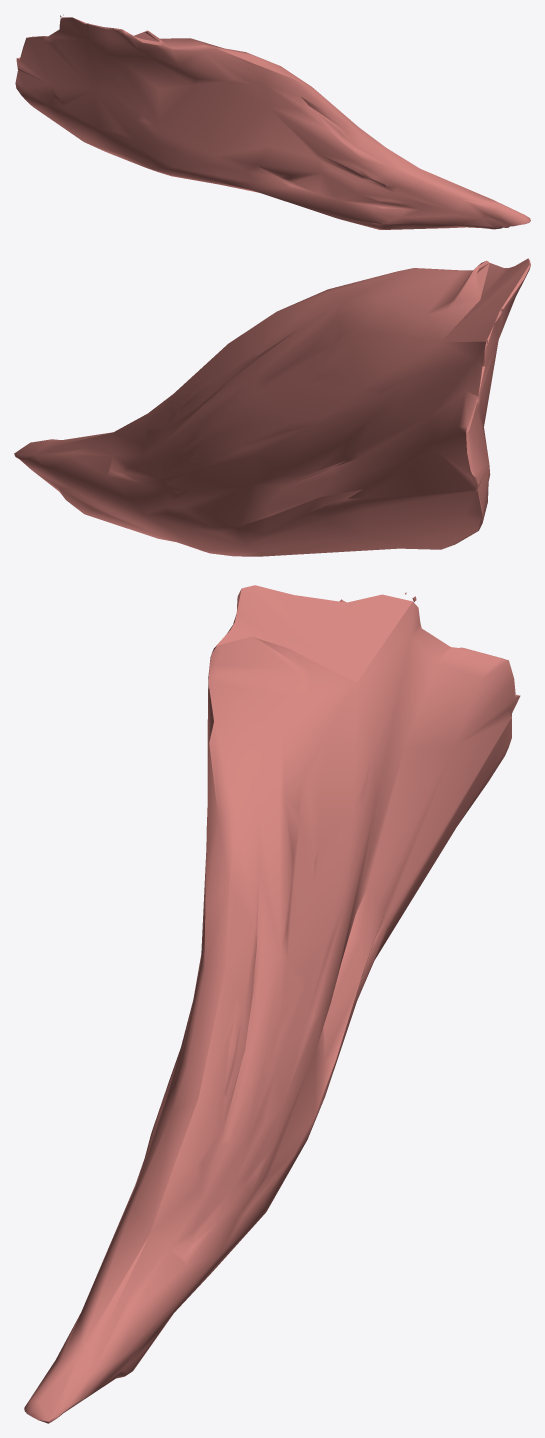
The model's file is fma22341_fj1428m.glb.
The picture shows the model from 3 angles, top to bottom: view 1: azimuth 30°, elevation 25°; view 2: azimuth 150°, elevation 25°; view 3: azimuth 270°, elevation 25°; orthographic projection. The views are drawn at different scales.
Visible parts, largest first — view 1: FMA22341_FJ1428M; view 2: FMA22341_FJ1428M; view 3: FMA22341_FJ1428M.
Boxes of the visible parts, left/top/right/bottom form: FMA22341_FJ1428M: left=15, top=14, right=530, bottom=229; FMA22341_FJ1428M: left=14, top=258, right=530, bottom=556; FMA22341_FJ1428M: left=24, top=585, right=520, bottom=1423.
Bounding box in the file's own units: 0.1116 × 0.0663 × 0.0599.
